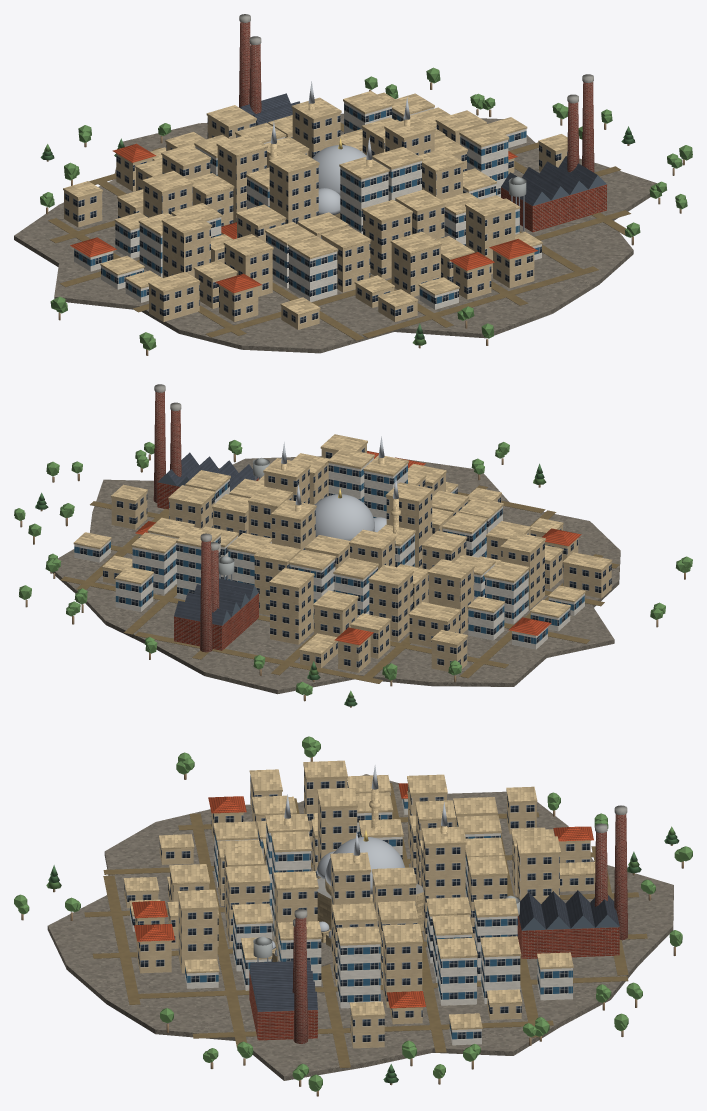
The model's file is city_orient_large.glb.
3 renders of one model, top to bottom at view 1: azimuth 30°, elevation 25°; view 2: azimuth 150°, elevation 25°; view 3: azimuth 270°, elevation 25°, orthographic. The views are drawn at different scales.
Visible parts, largest first — view 1: city_orient_large; view 2: city_orient_large; view 3: city_orient_large.
Part boxes in pixels (<box>): city_orient_large: <box>14,14,692,355</box>; city_orient_large: <box>14,384,692,707</box>; city_orient_large: <box>14,736,692,1096</box>.
Size of the model in its own units: 5.06 by 0.93 by 4.28.
Materials: 18 (10 with a texture image).
